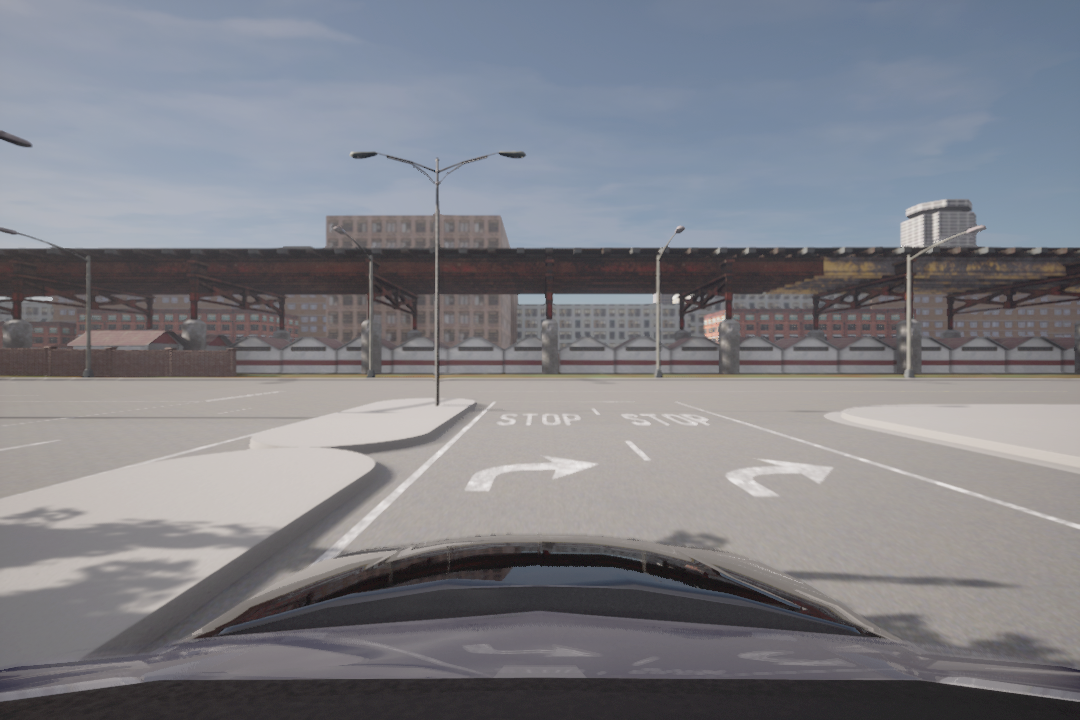RoadSign_right: (457, 444, 601, 497), (716, 454, 836, 511)
